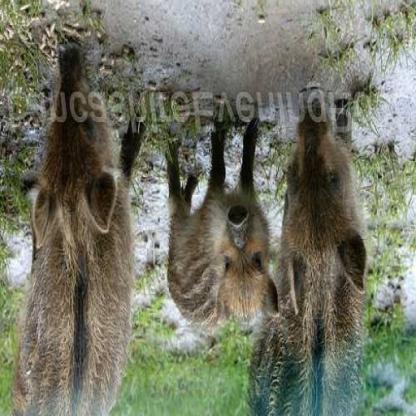boar: (228, 98, 396, 416), (35, 38, 156, 413), (154, 89, 282, 343)
